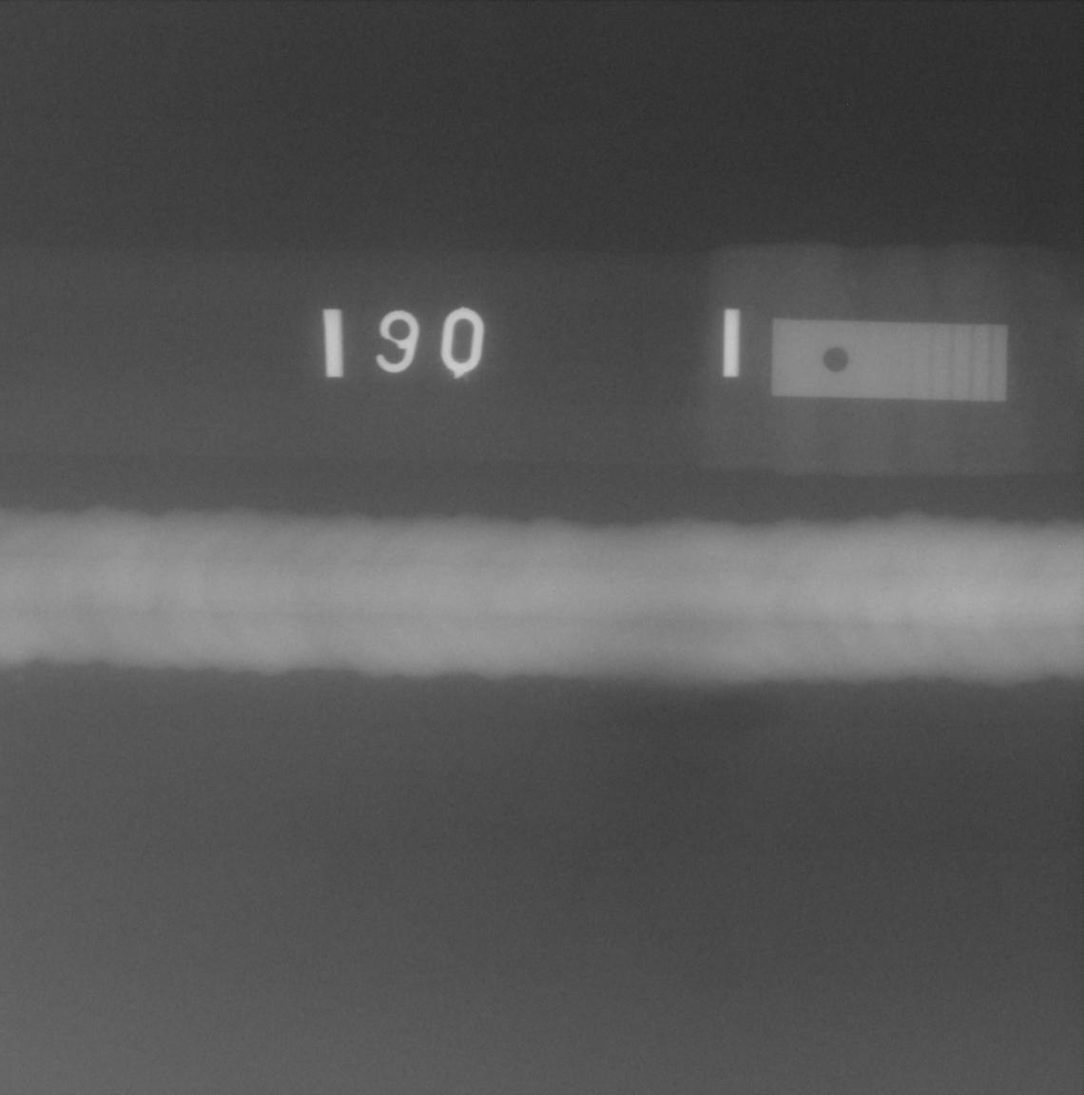Pore/Porosity: (610, 582, 613, 585)
Reference Standard 1: (771, 317, 1007, 402)
